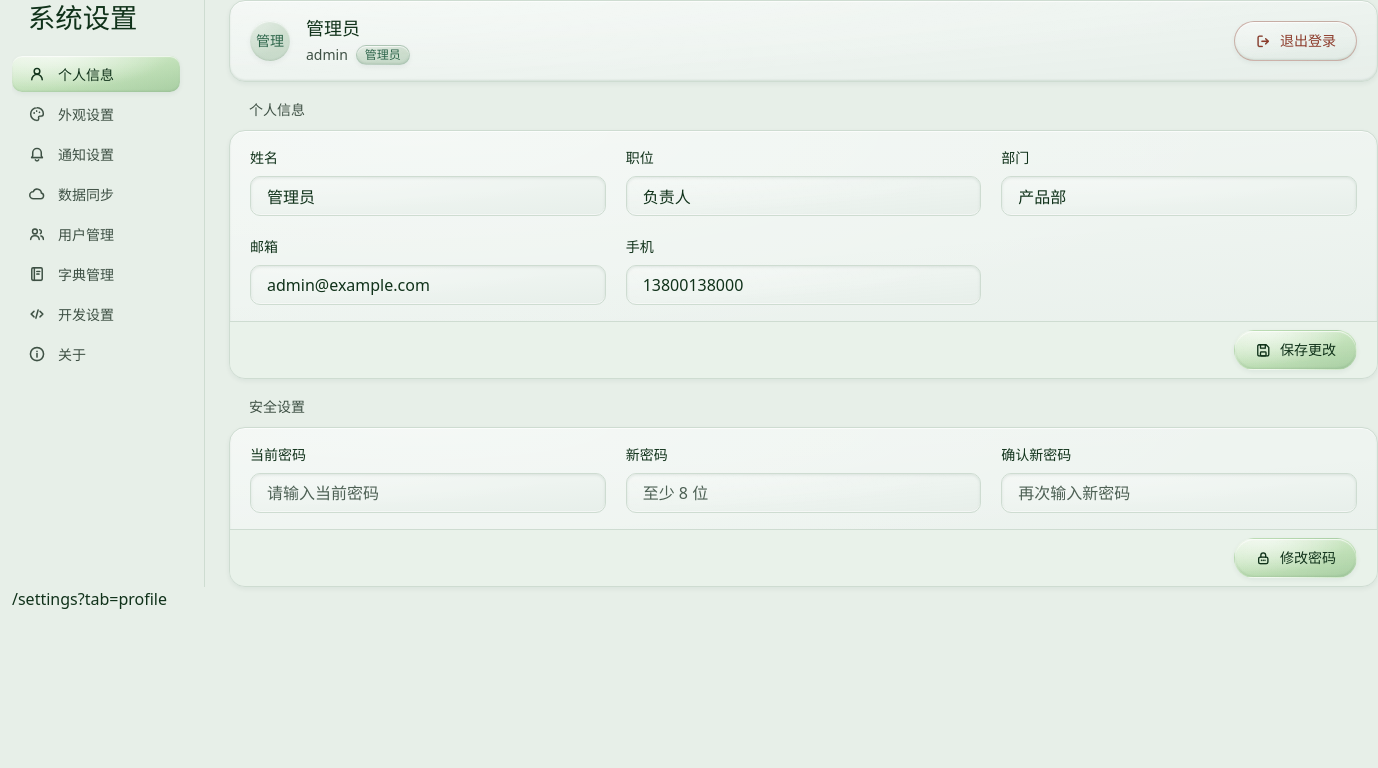
Test: SettingsView › signs the account out from the profile tab and returns to the login page
Expected: the text "admin" is shown, [306,44,348,65]
Click the button "退出登录" at [1296, 41], box [1234,21,1357,61]
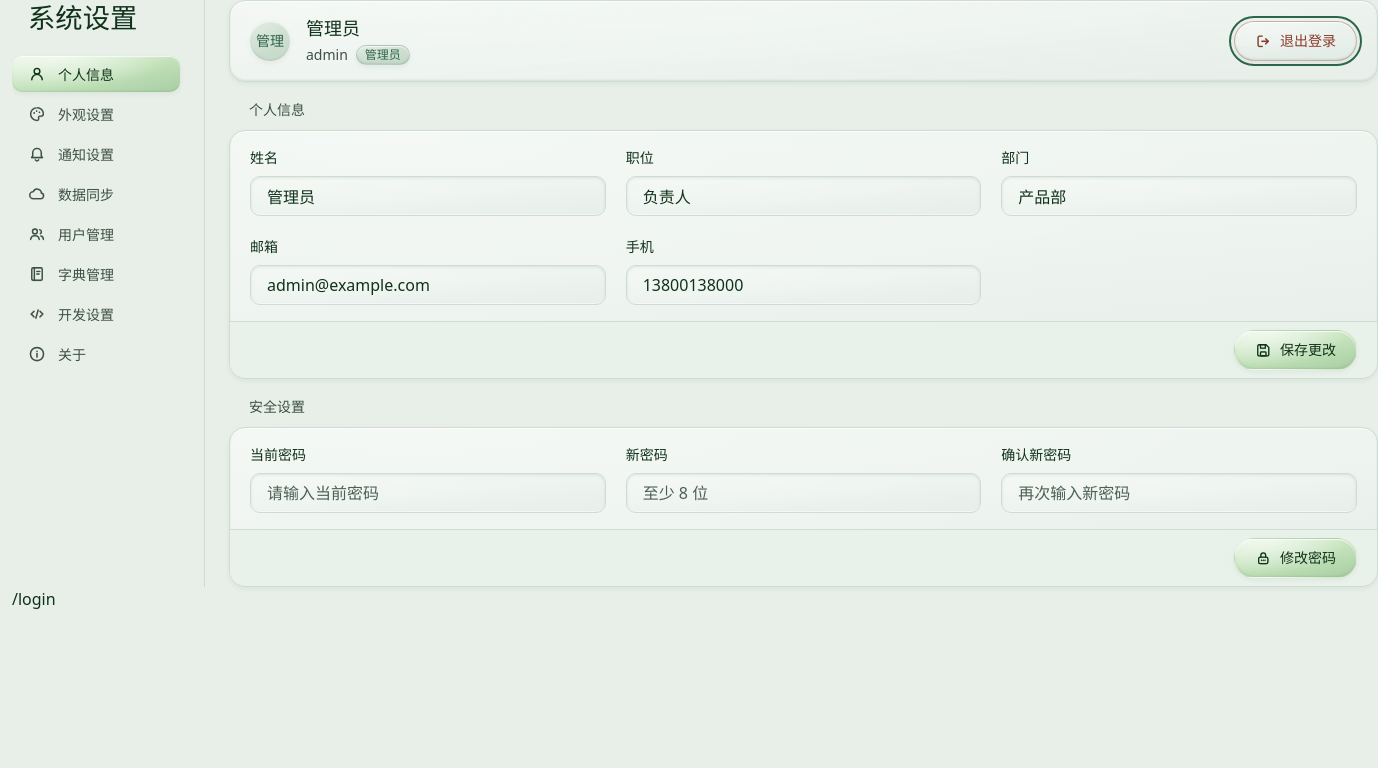
Expected: the text with test id "settings-location" reads "/login", [12,588,56,610]
